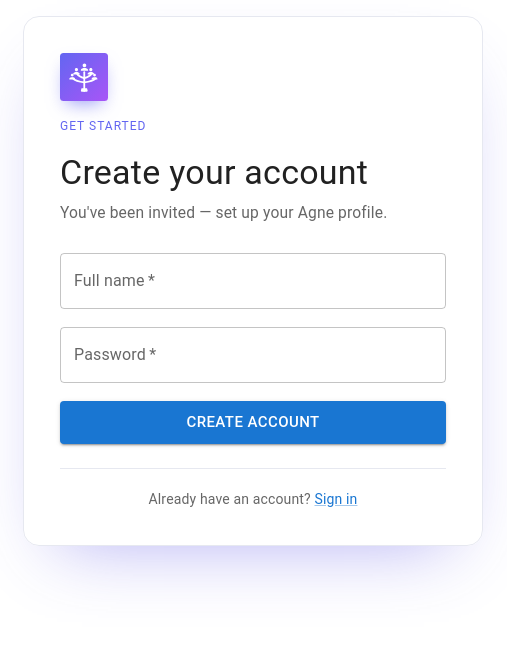
Test case: Register page (invitation-only) › shows an error alert and keeps the form on a rejected registration
Type "Ada" into the field labelled "Full name" at (253, 281), box [60,253,446,309]
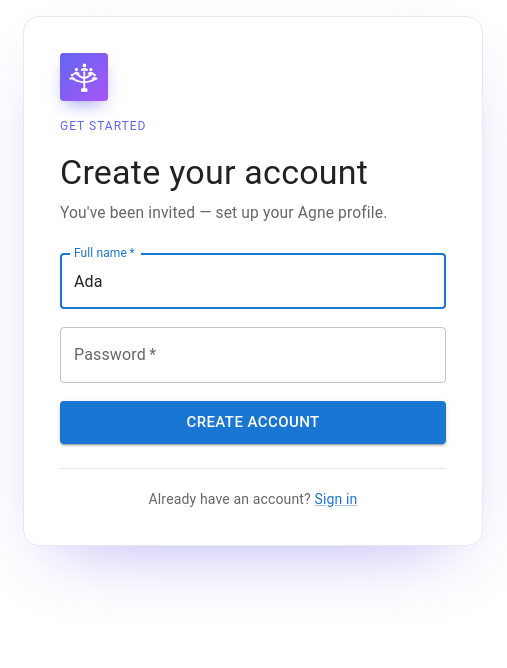
Type "secret123" into the password field labelled "Password" at (253, 355), box [60,327,446,383]
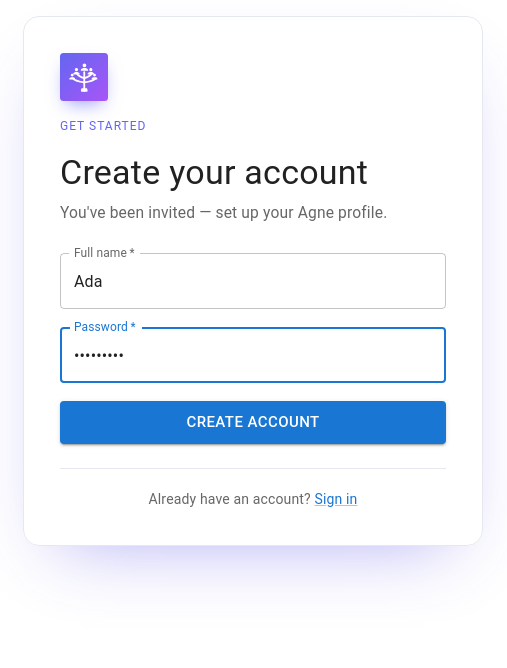
Click the button "Create account" at (253, 423), box [60,401,446,444]
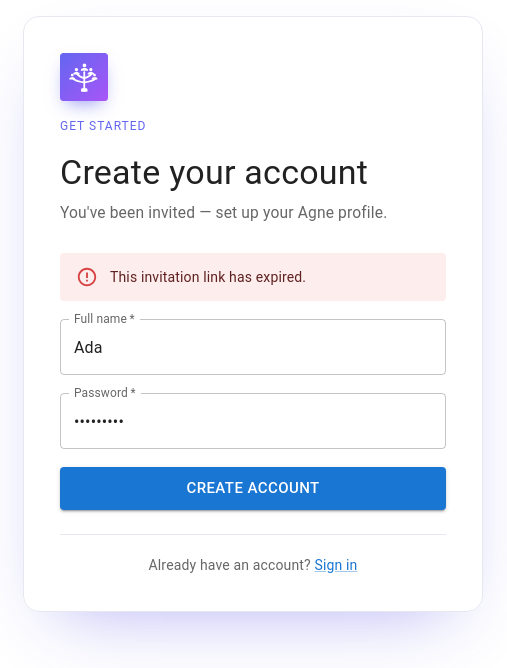
Result: the message reads "This invitation link has expired." at [110,269,306,285]
